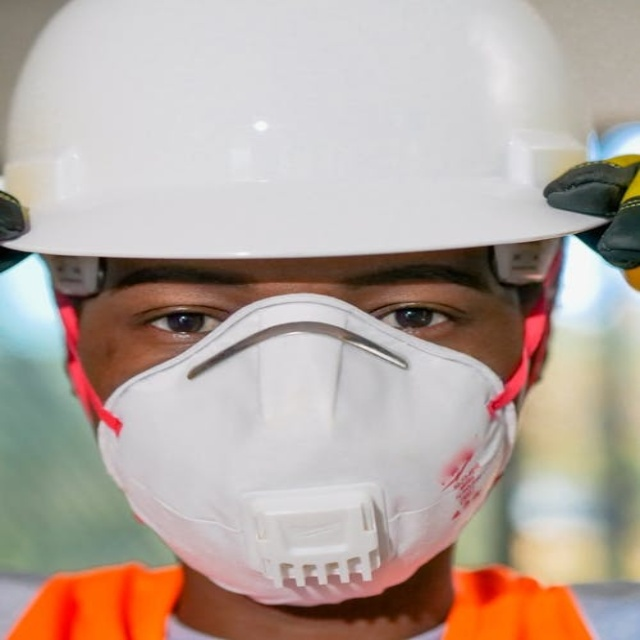Guantes: (544, 152, 639, 275)
Mascara: (89, 291, 522, 605)
Sin_gafas: (110, 265, 484, 354)
